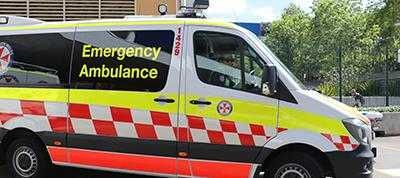Ambulance: (8, 7, 382, 178)
